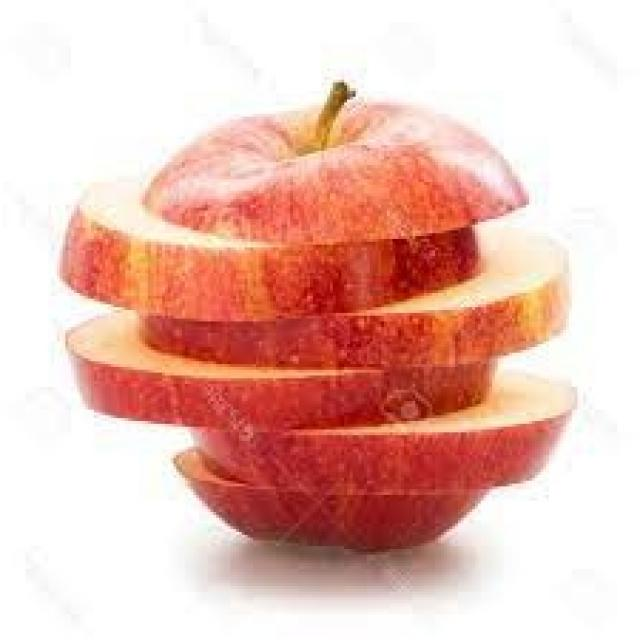Apple: (148, 367, 597, 538), (111, 230, 589, 372), (62, 290, 498, 438), (31, 193, 464, 330), (136, 103, 532, 245)
